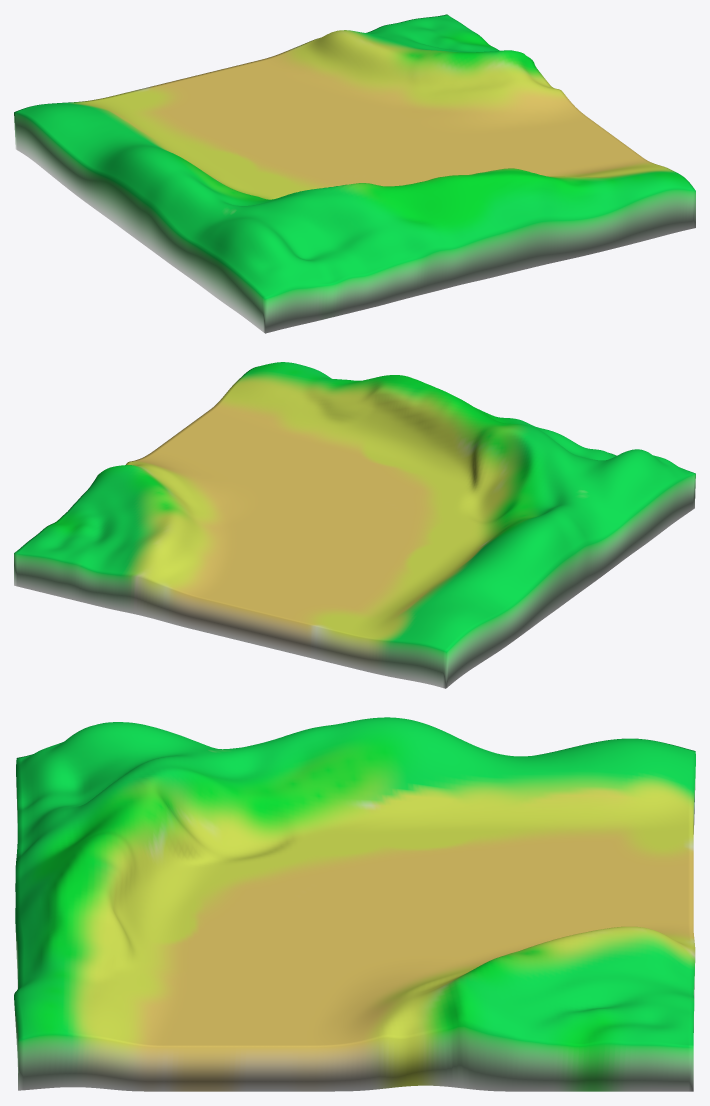
Rendered from corner.fbx.
3 views of the same model, one above another, from view 1: azimuth 30°, elevation 25°; view 2: azimuth 150°, elevation 25°; view 3: azimuth 270°, elevation 25° (orthographic). The views are drawn at different scales.
Visible parts, largest first — view 1: Plane; view 2: Plane; view 3: Plane.
Part boxes in pixels (x1,y1,x2,y2): Plane: (14,14,695,333); Plane: (14,362,695,688); Plane: (14,717,695,1091).
Size of the model in its own units: 203 by 36.21 by 202.
